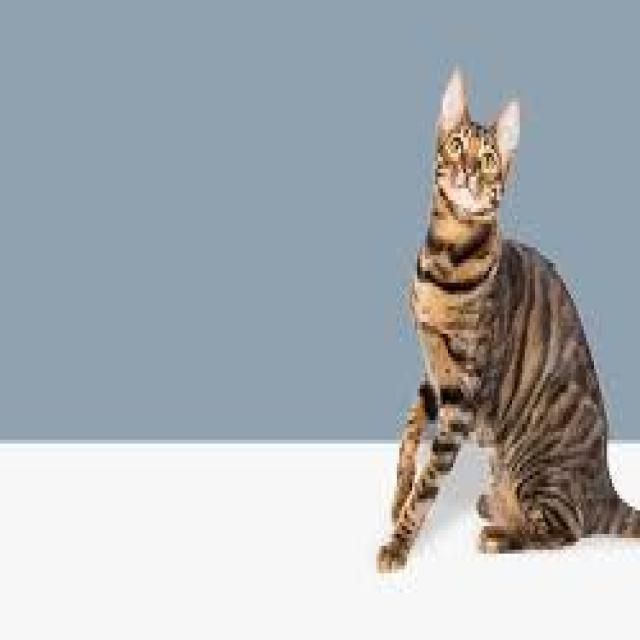Toyger: (371, 59, 640, 581)
